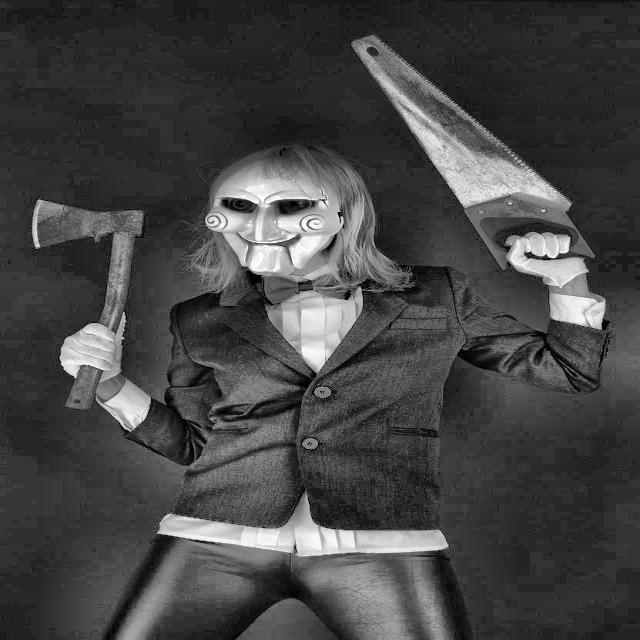kapak: (13, 192, 150, 412)
